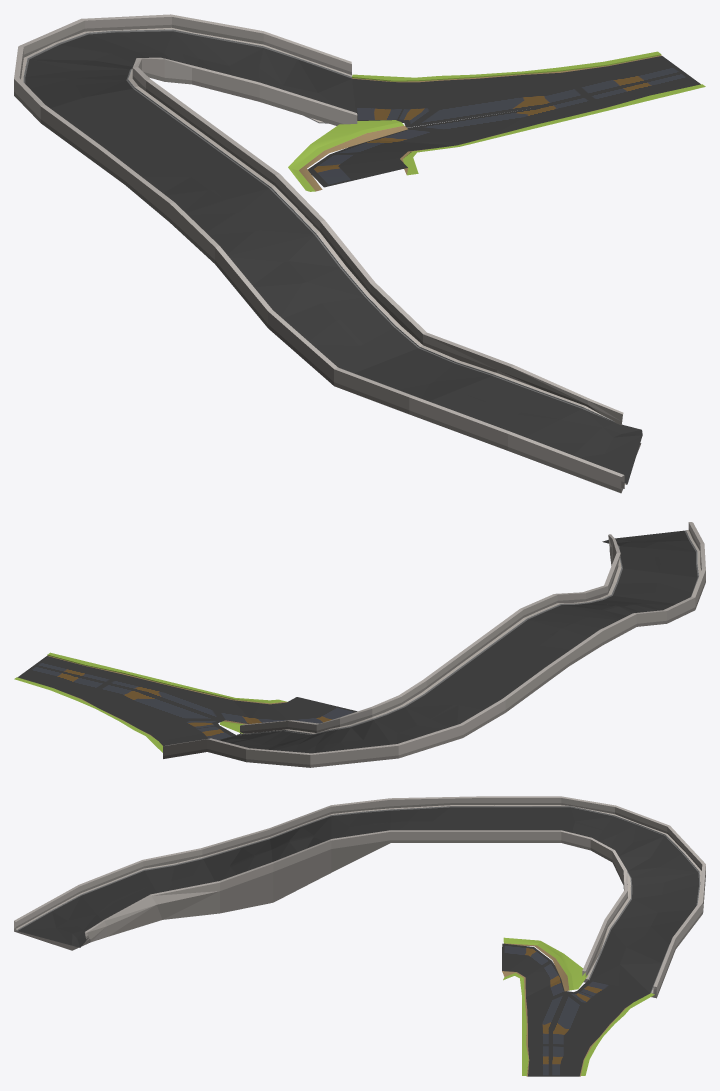
The model's file is section3.fbx.
3 views of the same model, one above another, from view 1: azimuth 30°, elevation 25°; view 2: azimuth 150°, elevation 25°; view 3: azimuth 270°, elevation 25° (orthographic). The views are drawn at different scales.
Parts seen in each view (by area): view 1: Env_Road_Ramp, fork_1, fork_1 (1); view 2: Env_Road_Ramp, fork_1; view 3: Env_Road_Ramp, fork_1, fork_1 (1).
Boxes of the visible parts, x1=… form: Env_Road_Ramp: x1=14, y1=14, x2=642, y2=493; fork_1: x1=308, y1=51, x2=705, y2=187; fork_1 (1): x1=288, y1=120, x2=407, y2=191; Env_Road_Ramp: x1=163, y1=522, x2=705, y2=767; fork_1: x1=14, y1=652, x2=357, y2=752; Env_Road_Ramp: x1=14, y1=796, x2=705, y2=998; fork_1: x1=502, y1=943, x2=654, y2=1076; fork_1 (1): x1=503, y1=937, x2=587, y2=991.
Bounding box in the file's own units: 127 × 23.64 × 181.
